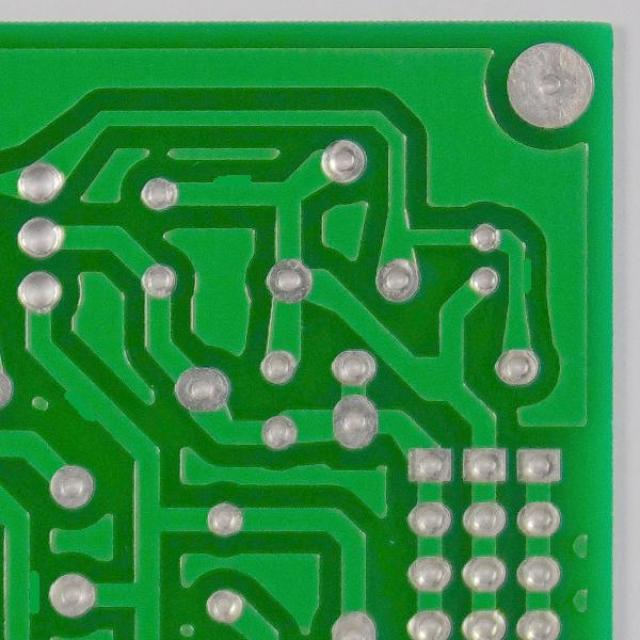Spur: (56, 374, 120, 431), (0, 562, 48, 624), (202, 170, 261, 213), (502, 252, 540, 301)
